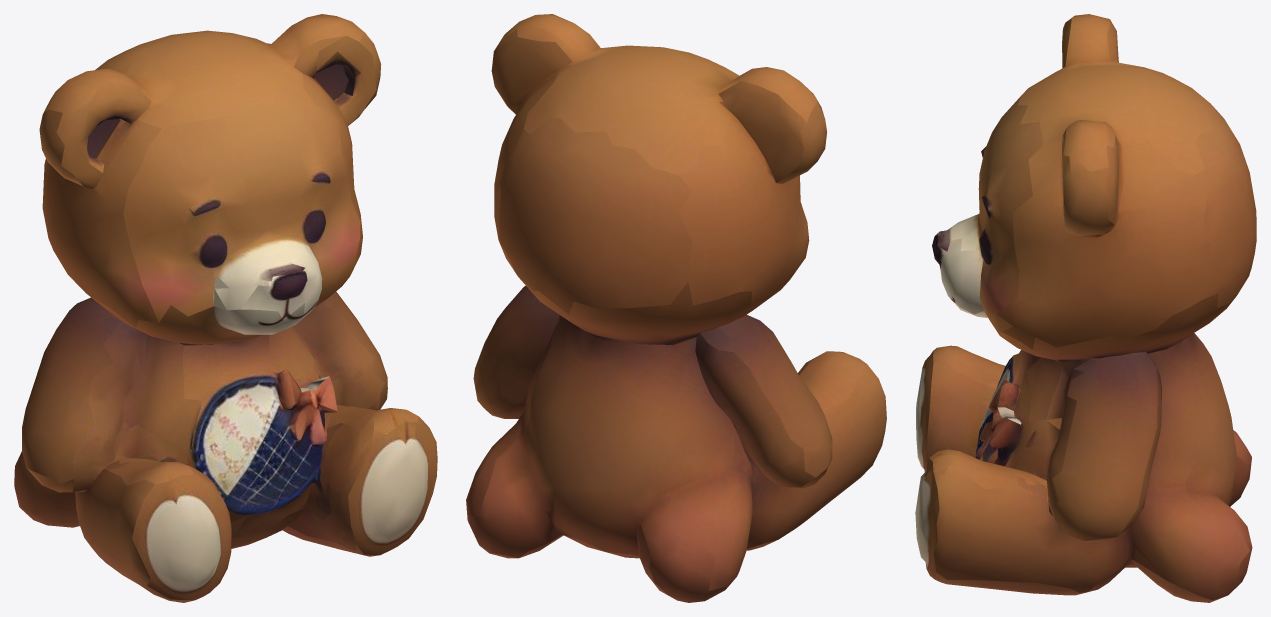
The model's file is teddy_bear.glb.
The picture shows the model from 3 angles, left to right: view 1: azimuth 30°, elevation 25°; view 2: azimuth 150°, elevation 25°; view 3: azimuth 270°, elevation 25°; orthographic projection. The views are drawn at different scales.
Visible parts, largest first — view 1: teddy_bear; view 2: teddy_bear; view 3: teddy_bear.
Part boxes in pixels (bbox=[...]): teddy_bear: bbox=[14, 14, 437, 602]; teddy_bear: bbox=[466, 14, 886, 602]; teddy_bear: bbox=[915, 14, 1256, 602].
Bounding box in the file's own units: 0.7373 × 1 × 0.6395.
1 material, 1 textured.
